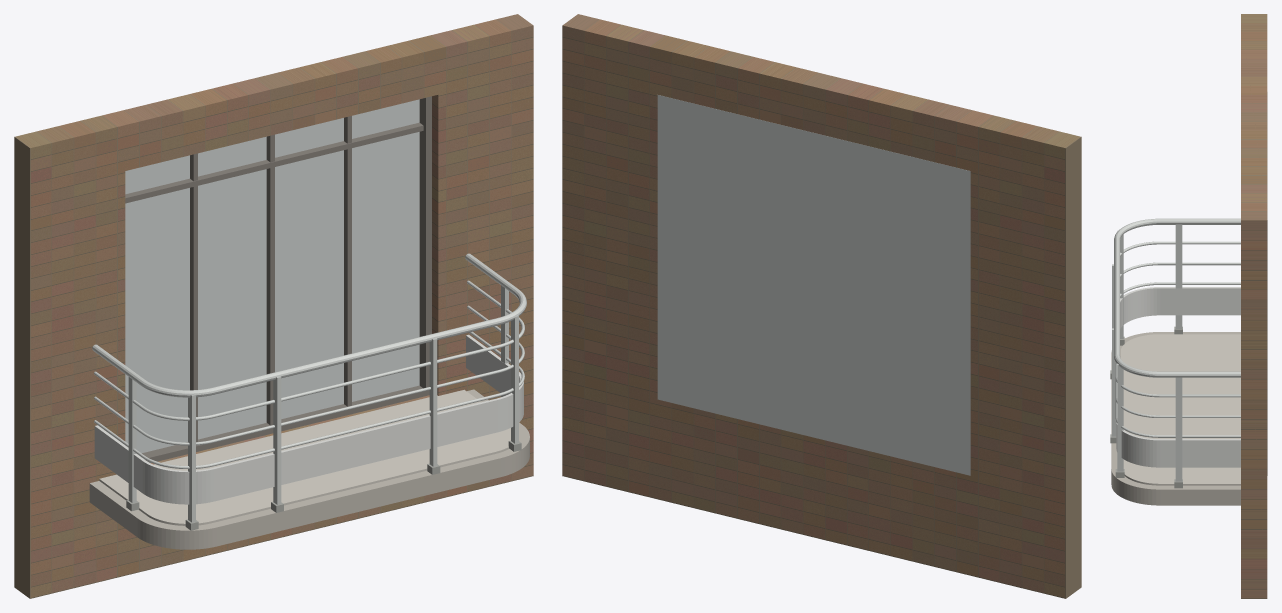
The model's file is donglu-rounded-metal-balcony-near.glb.
3 views of the same model, side by side, from view 1: azimuth 30°, elevation 25°; view 2: azimuth 150°, elevation 25°; view 3: azimuth 270°, elevation 25° (orthographic). The views are drawn at different scales.
Parts seen in each view (by area): view 1: 岳阳路265号东庐三层小挑台与弧端金属栏板; view 2: 岳阳路265号东庐三层小挑台与弧端金属栏板; view 3: 岳阳路265号东庐三层小挑台与弧端金属栏板.
Boxes of the visible parts, box(x1,y1,x2,y2) form: 岳阳路265号东庐三层小挑台与弧端金属栏板: box(14, 14, 533, 598); 岳阳路265号东庐三层小挑台与弧端金属栏板: box(562, 14, 1081, 598); 岳阳路265号东庐三层小挑台与弧端金属栏板: box(1110, 14, 1267, 598).
Bounding box in the file's own units: 3.32 × 2.84 × 1.07.
9 materials, 1 textured.
